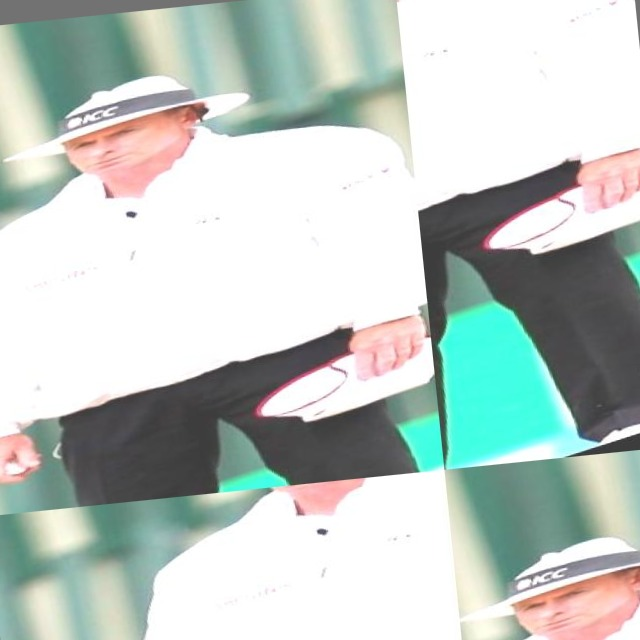No_Action: (446, 464, 640, 640)
Out: (0, 0, 392, 359)
Wide: (0, 480, 353, 604), (395, 0, 640, 153)
